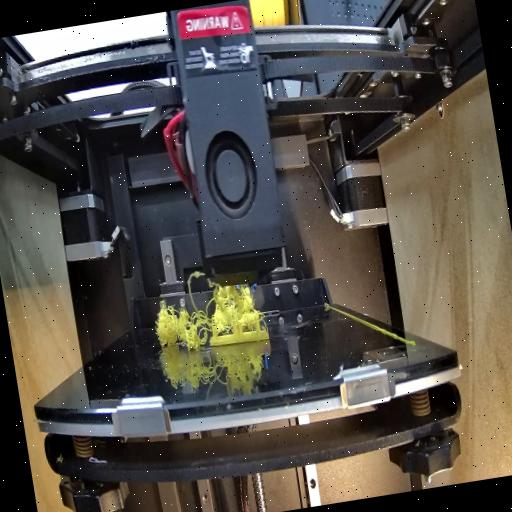spaghetti: (146, 256, 266, 356)
